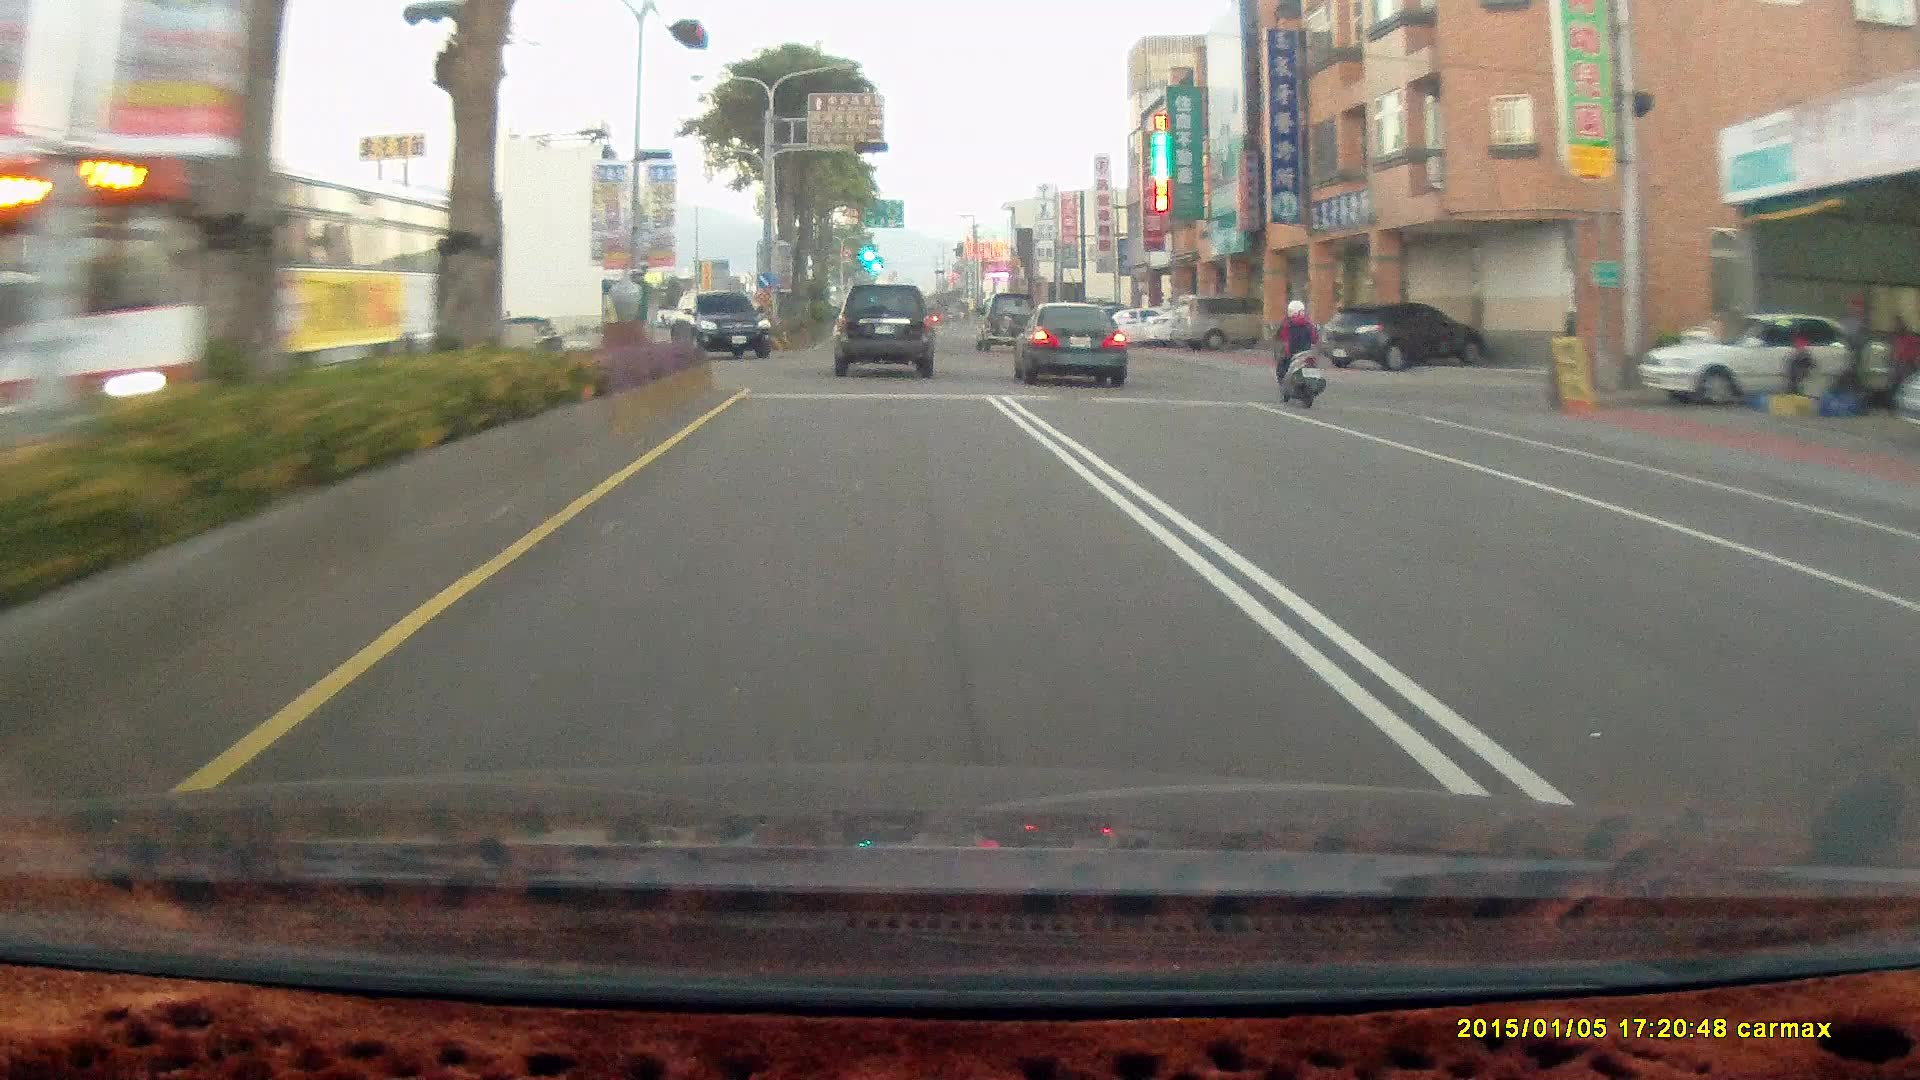pedestrian: (1885, 310, 1919, 420), (1842, 292, 1873, 411), (1782, 334, 1814, 406)
rider: (1257, 289, 1337, 418), (1267, 298, 1325, 407)
vehicle: (0, 130, 503, 447), (55, 138, 476, 417), (1641, 309, 1885, 407), (1636, 308, 1887, 405), (1316, 300, 1486, 369), (1317, 300, 1484, 368), (1011, 297, 1131, 388), (1008, 298, 1128, 384), (833, 281, 939, 376), (831, 281, 932, 376), (670, 289, 772, 362), (669, 288, 771, 357), (1171, 293, 1282, 349), (1172, 293, 1269, 356), (973, 288, 1039, 349), (1096, 304, 1180, 345), (1898, 376, 1920, 425)
